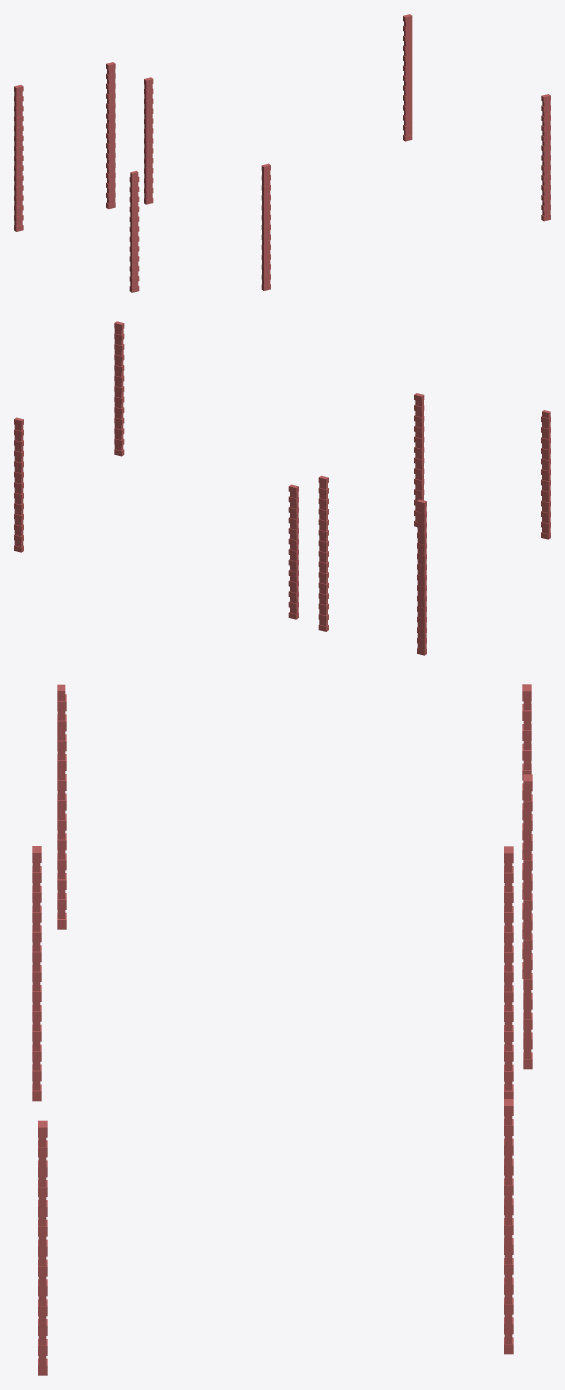
File: FairyTale76.gltf
3 renders of one model, top to bottom at view 1: azimuth 30°, elevation 25°; view 2: azimuth 150°, elevation 25°; view 3: azimuth 270°, elevation 25°, orthographic. The views are drawn at different scales.
Parts seen in each view (by area): view 1: ManorMD_PlasterBrown; view 2: ManorMD_PlasterBrown; view 3: ManorMD_PlasterBrown.
Boxes of the visible parts, box(x1,y1,x2,y2) form: ManorMD_PlasterBrown: box(14, 14, 550, 292); ManorMD_PlasterBrown: box(14, 321, 550, 655); ManorMD_PlasterBrown: box(32, 684, 532, 1375).
Bounding box in the file's own units: 25.52 × 8.47 × 13.34.
